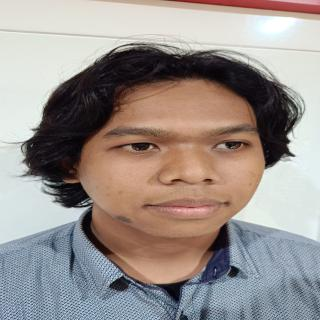Netral: (74, 65, 286, 246)
